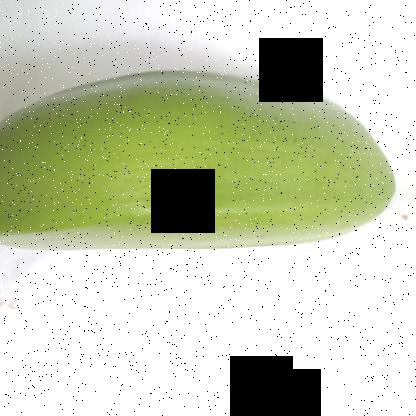freshunripe: (1, 57, 403, 264)
